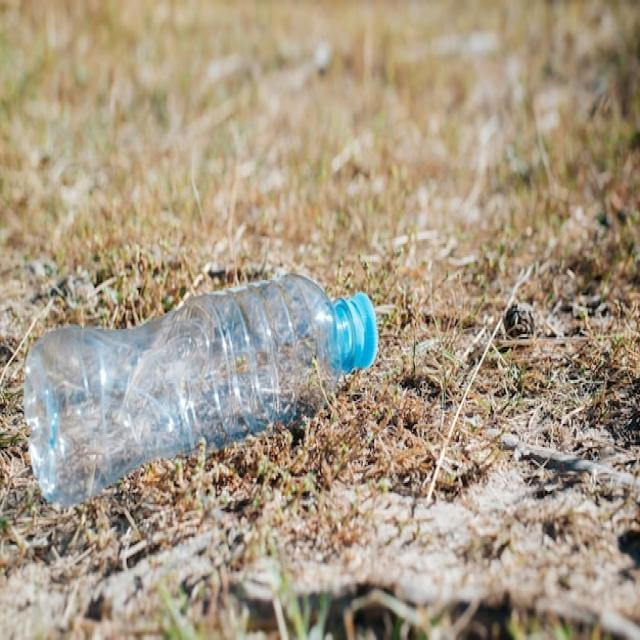plastic bottle: (32, 242, 381, 512)
